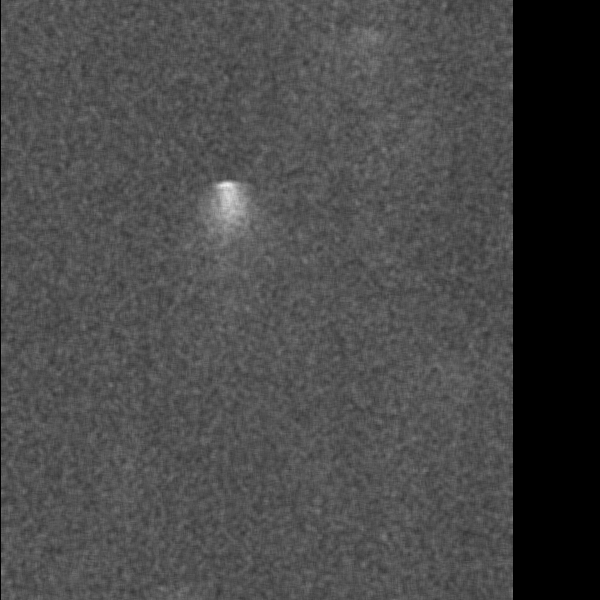spark: (393, 276, 428, 425), (268, 269, 307, 365), (165, 262, 215, 311)
